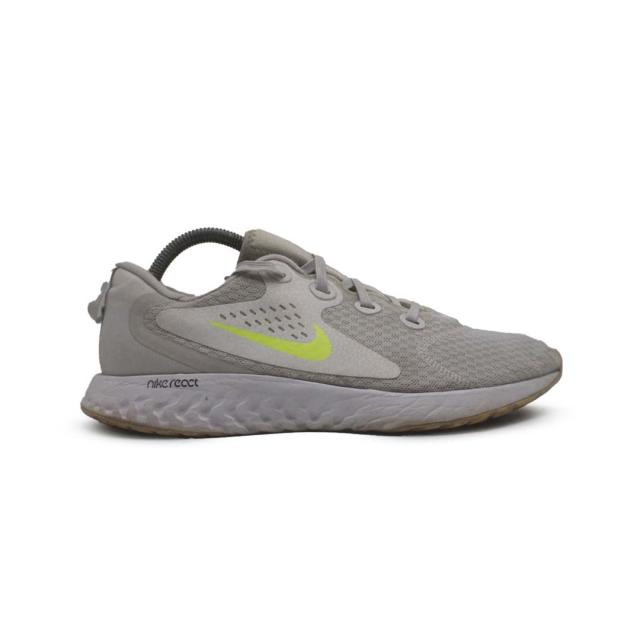heel: (88, 263, 165, 371)
midsole: (81, 370, 559, 434)
uppersole: (145, 228, 565, 388)
